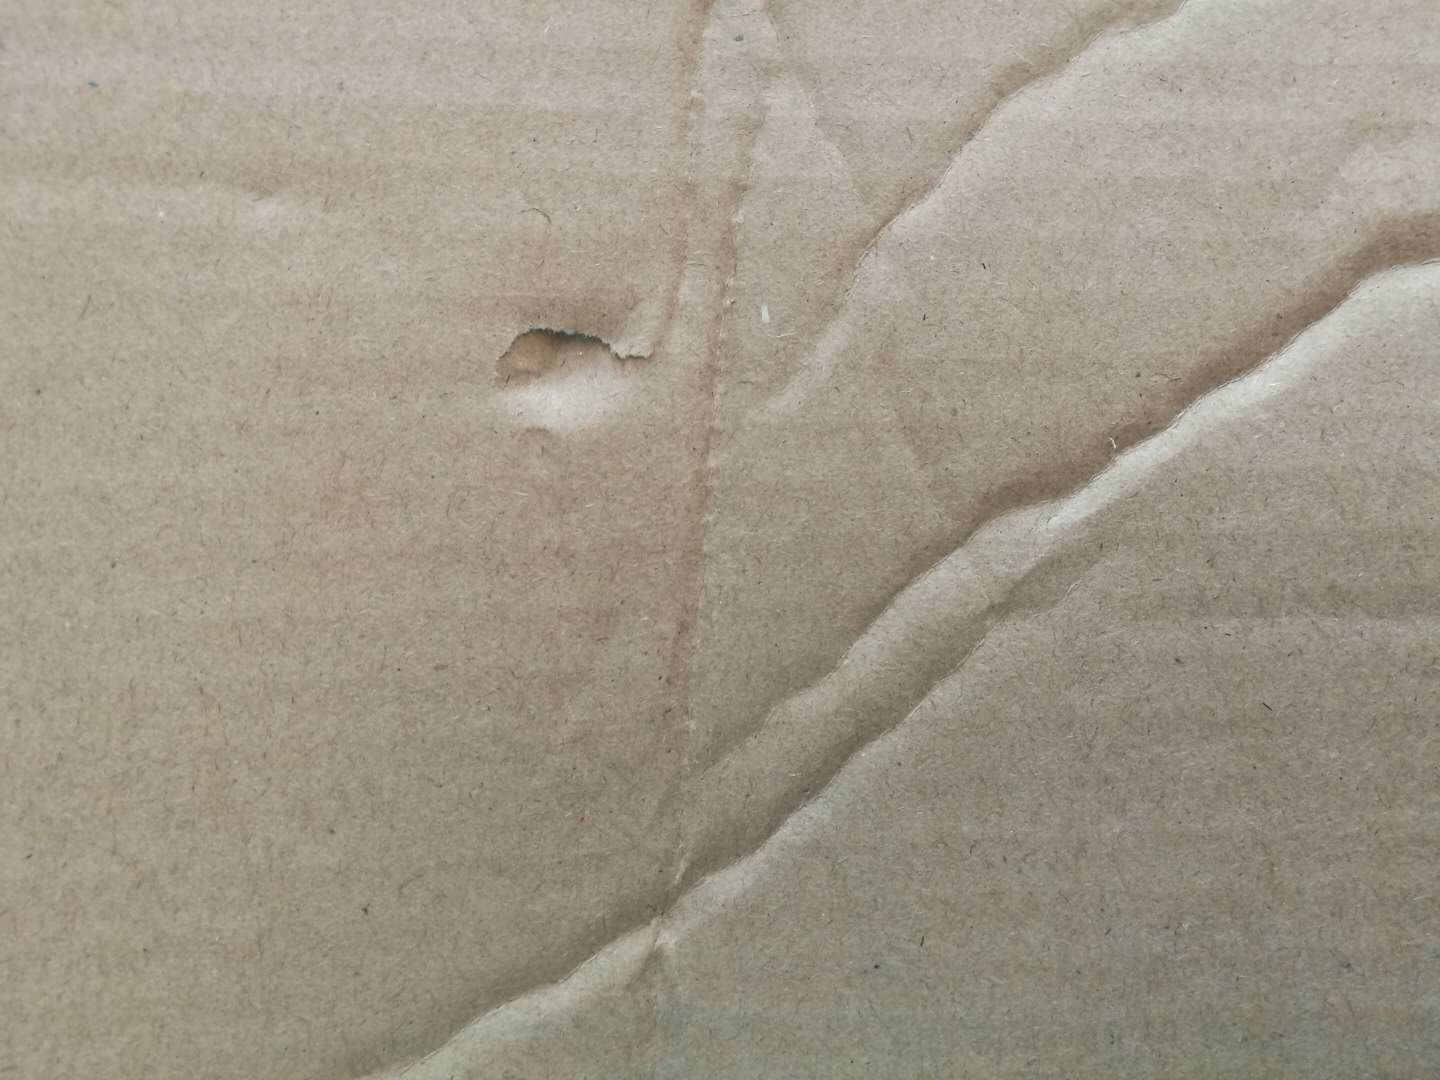defect: (303, 192, 1440, 1079), (611, 2, 831, 1080), (748, 1, 1250, 428), (466, 271, 677, 447)
